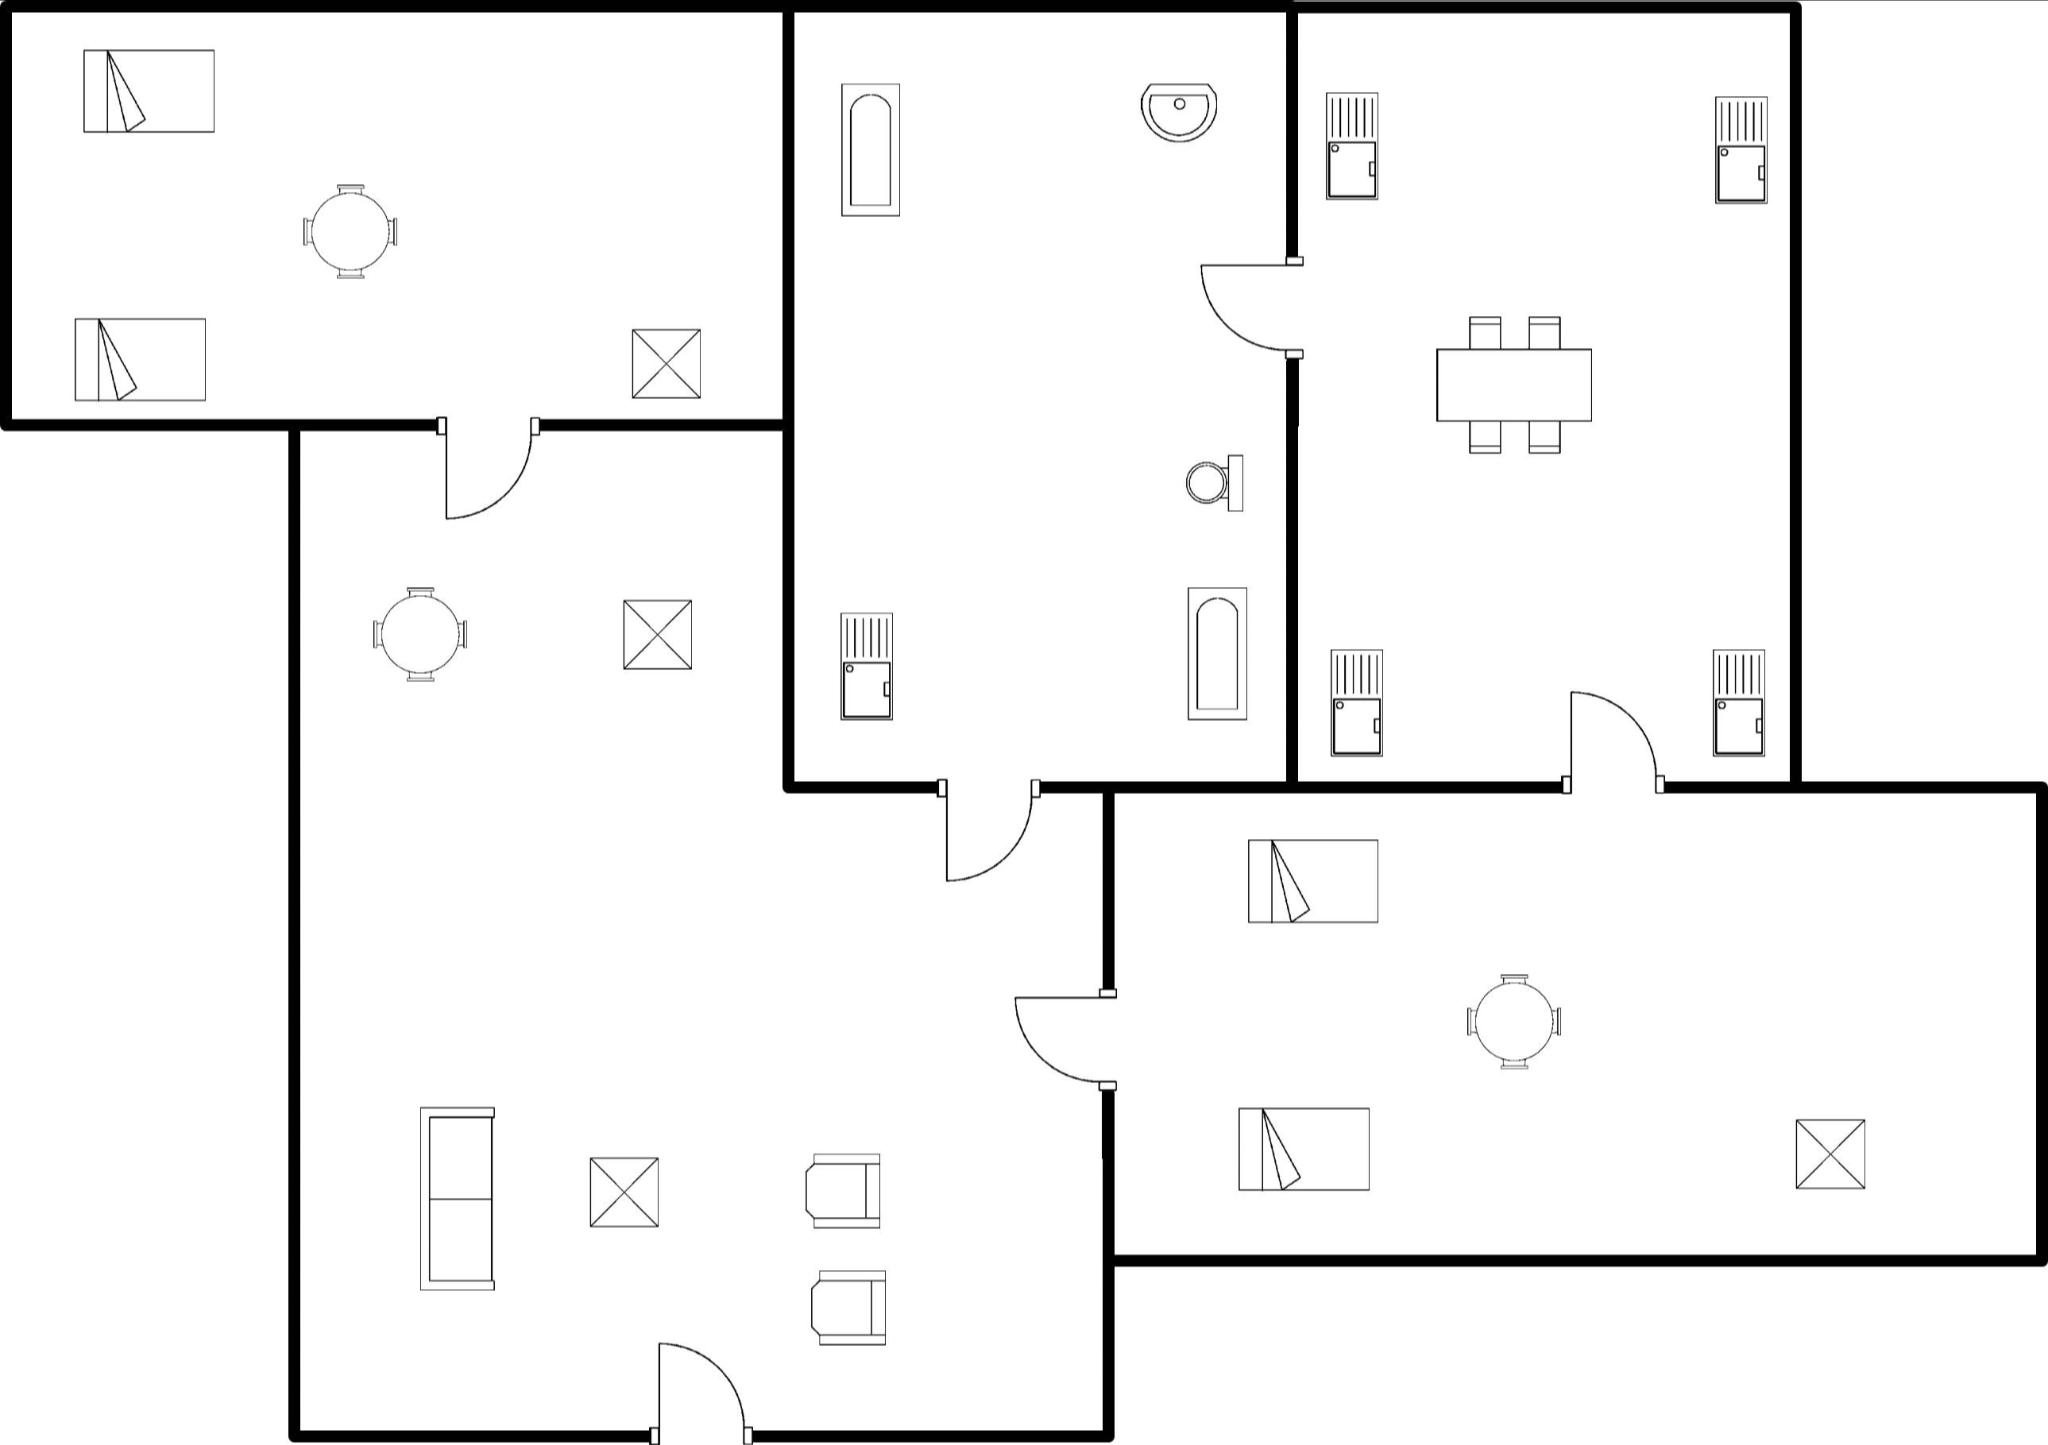bed: (63, 307, 217, 414), (1223, 1096, 1380, 1201), (73, 38, 225, 142), (1237, 829, 1387, 929)
dining_table: (1424, 300, 1604, 463)
round_table: (289, 170, 410, 289), (1451, 963, 1577, 1076), (353, 579, 480, 690)
sink: (1316, 635, 1398, 765), (829, 602, 905, 732), (1316, 80, 1390, 211), (1706, 86, 1781, 214), (1702, 641, 1776, 765)
sofa: (403, 1096, 503, 1301)
toilet: (1176, 443, 1254, 519)
tub: (830, 69, 913, 228), (1179, 575, 1260, 729)
